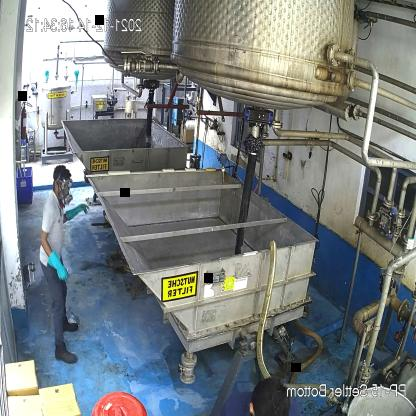goggles: (56, 176, 76, 191)
mask: (56, 186, 74, 206)
shoes: (51, 336, 81, 366), (60, 316, 80, 336)
